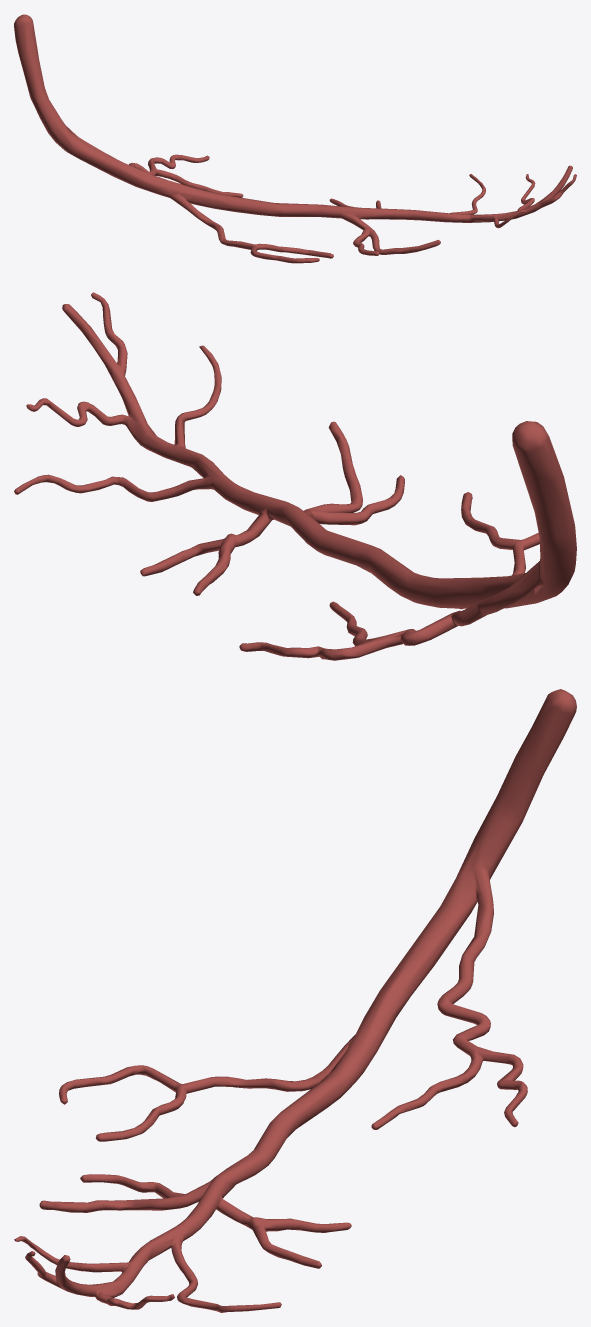
The model's file is FMA4713.glb.
3 views of the same model, one above another, from view 1: azimuth 30°, elevation 25°; view 2: azimuth 150°, elevation 25°; view 3: azimuth 270°, elevation 25° (orthographic). The views are drawn at different scales.
Visible parts, largest first — view 1: FMA4713; view 2: FMA4713; view 3: FMA4713.
Boxes of the visible parts, box(x1,y1,x2,y2) form: FMA4713: box(14, 14, 576, 263); FMA4713: box(14, 292, 576, 660); FMA4713: box(14, 689, 576, 1312).
Size of the model in its own units: 0.069 by 0.0329 by 0.0485.
